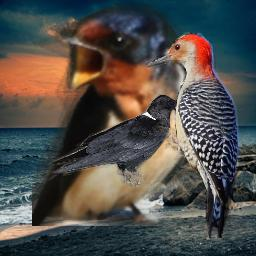Crow: (47, 94, 183, 191)
Swallow: (32, 3, 216, 226)
Woodpecker: (147, 32, 240, 238)
